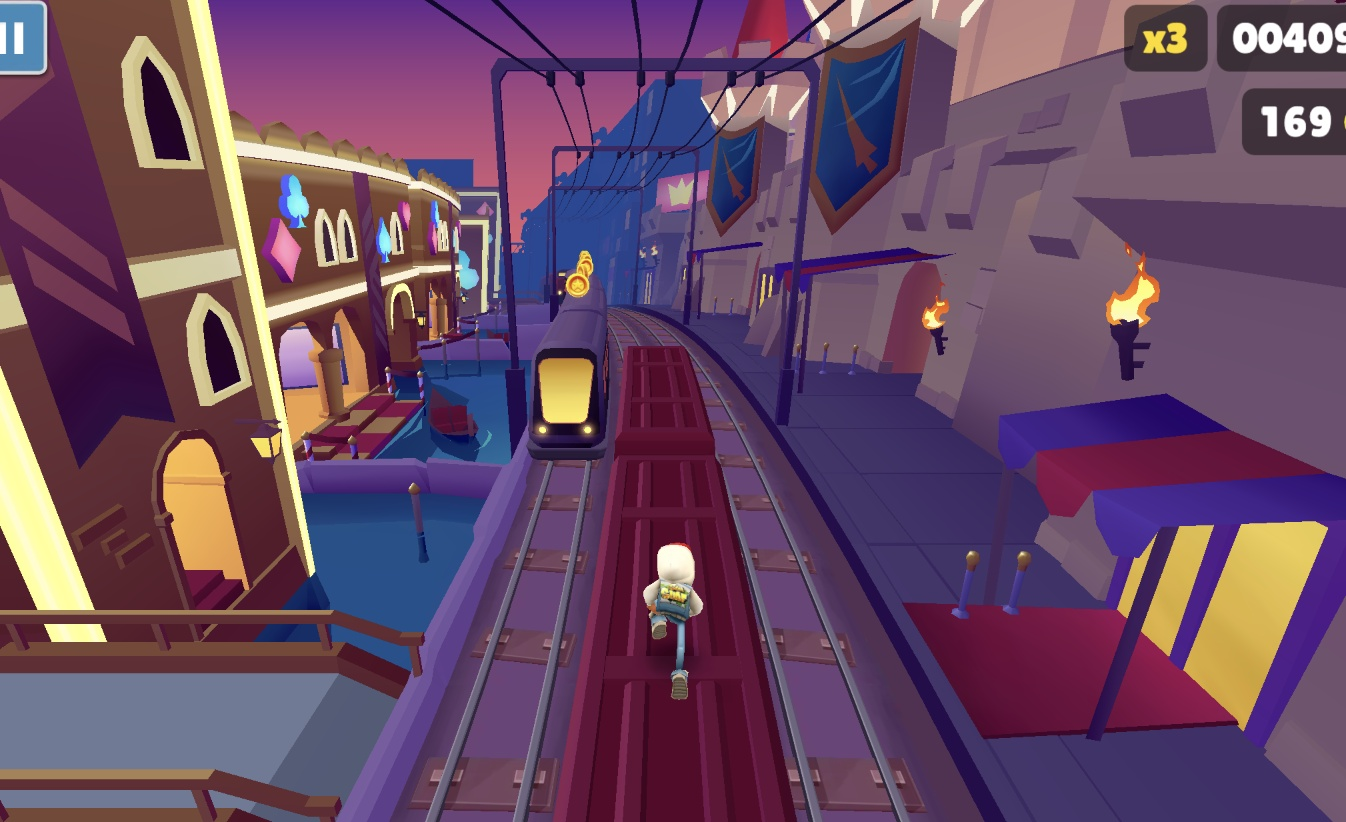train: (555, 345, 801, 822), (525, 276, 610, 464), (549, 273, 573, 322)
